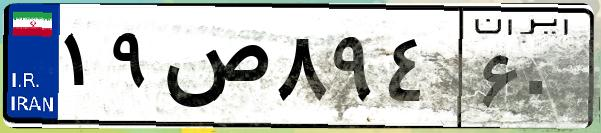0: (525, 38, 570, 115)
1: (57, 26, 110, 100)
4: (385, 28, 445, 110)
6: (475, 38, 525, 113)
8: (270, 28, 330, 110)
9: (330, 28, 385, 110), (110, 28, 158, 98)
ص: (158, 20, 270, 120)
